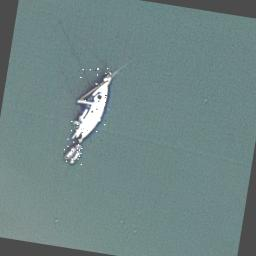boat: (66, 64, 115, 148), (62, 141, 85, 166)
